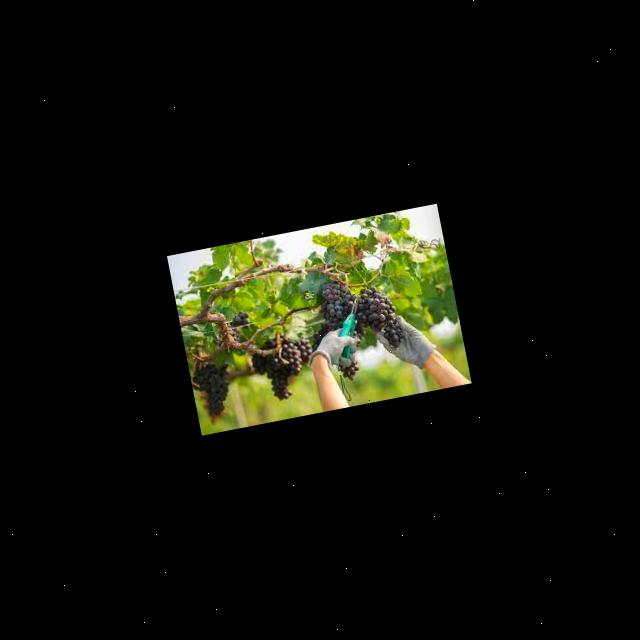grape: (248, 328, 321, 404), (188, 355, 238, 426)
